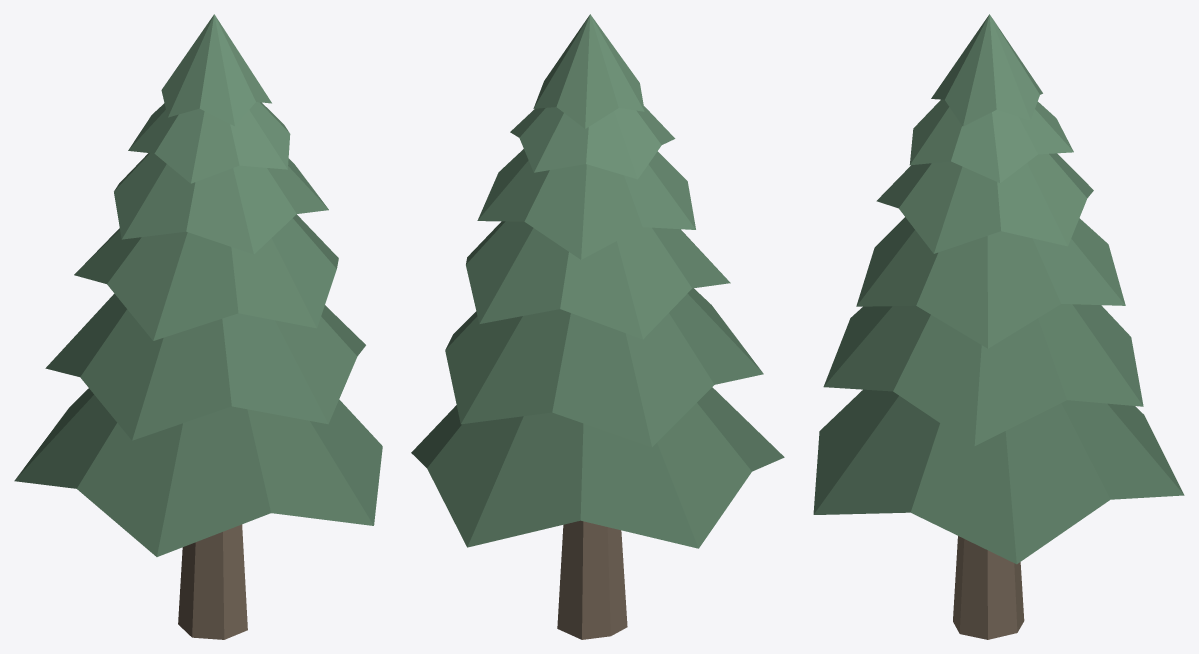
The model's file is pine_5.glb.
The picture shows the model from 3 angles, left to right: view 1: azimuth 30°, elevation 25°; view 2: azimuth 150°, elevation 25°; view 3: azimuth 270°, elevation 25°; orthographic projection.
Visible parts, largest first — view 1: pine_5.001; view 2: pine_5.001; view 3: pine_5.001.
Part boxes in pixels (bbox=[...]): pine_5.001: bbox=[14, 14, 382, 639]; pine_5.001: bbox=[411, 14, 784, 639]; pine_5.001: bbox=[813, 14, 1184, 639].
Bounding box in the file's own units: 12.06 × 22.02 × 12.1.
